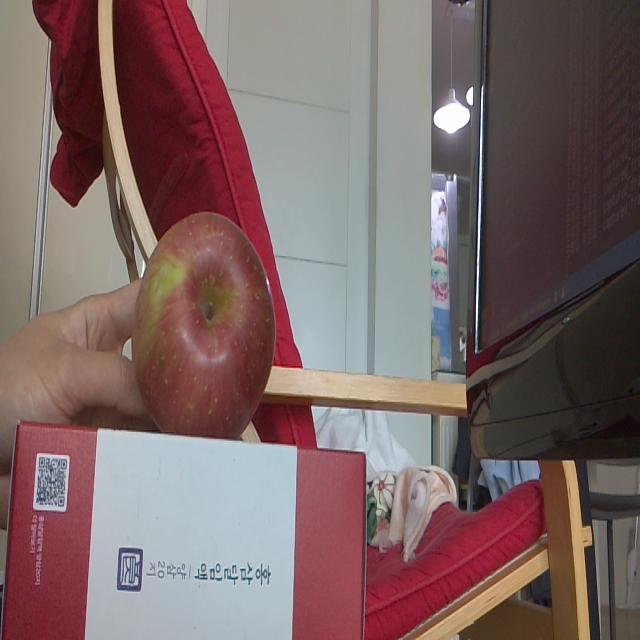apple: (136, 214, 272, 431)
